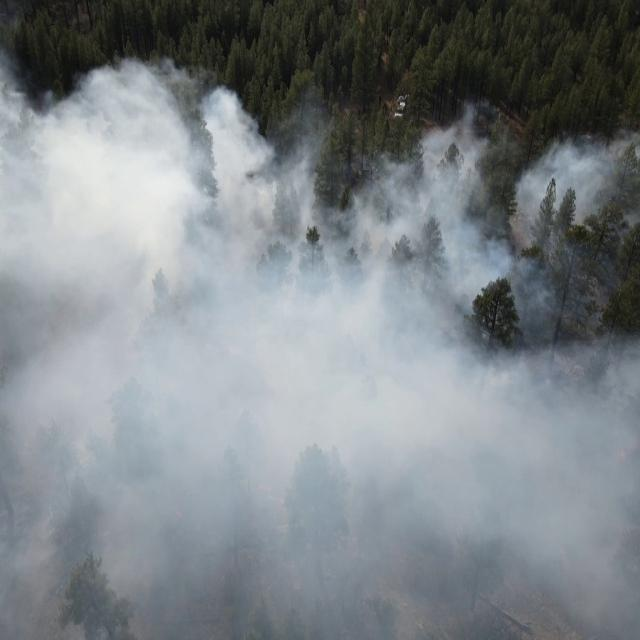fire: (610, 434, 640, 474)
smoke: (0, 216, 640, 640), (0, 81, 322, 219), (322, 109, 640, 219), (74, 54, 220, 84), (0, 0, 25, 81)
